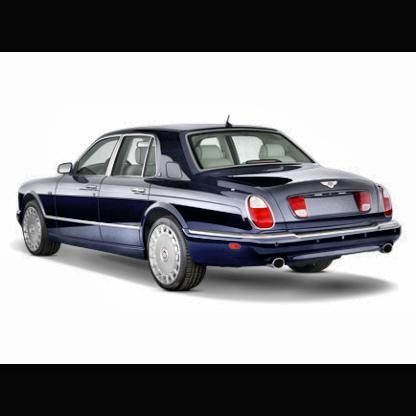Bentley Arnage Sedan 2009: (16, 116, 404, 290)
